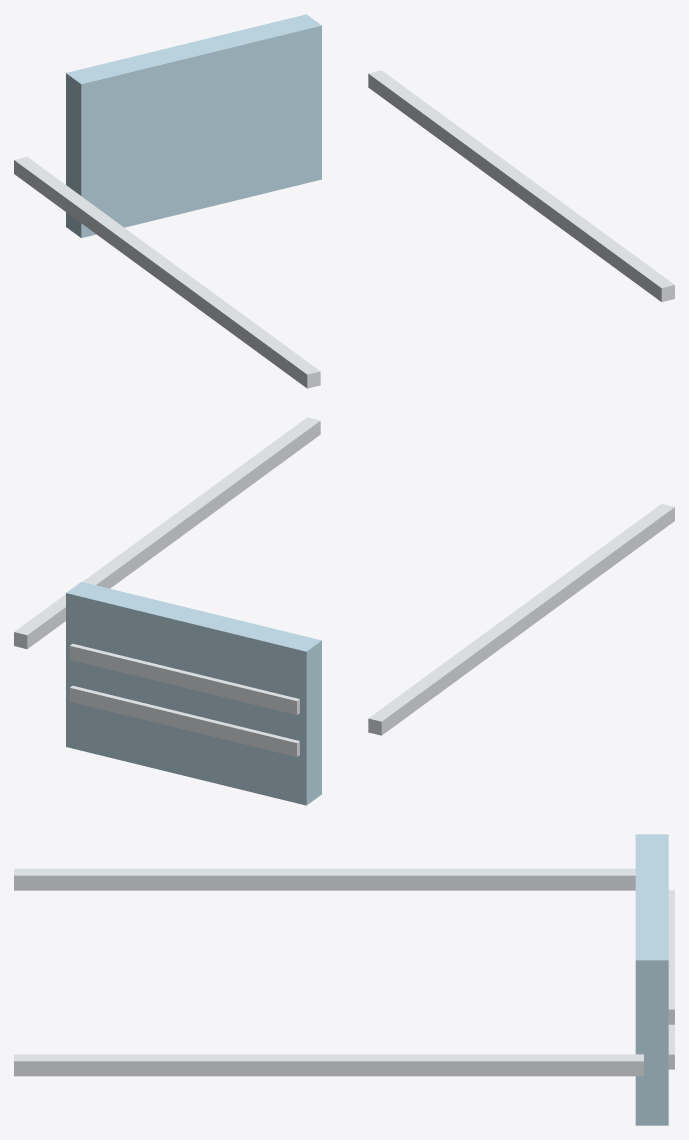
File: mascara_cirurgica.glb
The picture shows the model from 3 angles, top to bottom: view 1: azimuth 30°, elevation 25°; view 2: azimuth 150°, elevation 25°; view 3: azimuth 270°, elevation 25°; orthographic projection. The views are drawn at different scales.
Parts seen in each view (by area): view 1: mascara_cirurgica; view 2: mascara_cirurgica; view 3: mascara_cirurgica.
Boxes of the visible parts, <box> form: mascara_cirurgica: <box>14,14,674,388</box>; mascara_cirurgica: <box>14,417,674,805</box>; mascara_cirurgica: <box>14,834,674,1125</box>.
Bounding box in the file's own units: 0.55 × 0.22 × 0.7975.
